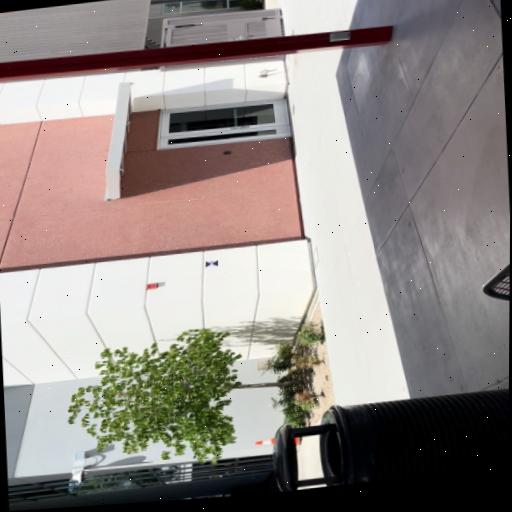target6: (205, 259, 218, 267)
